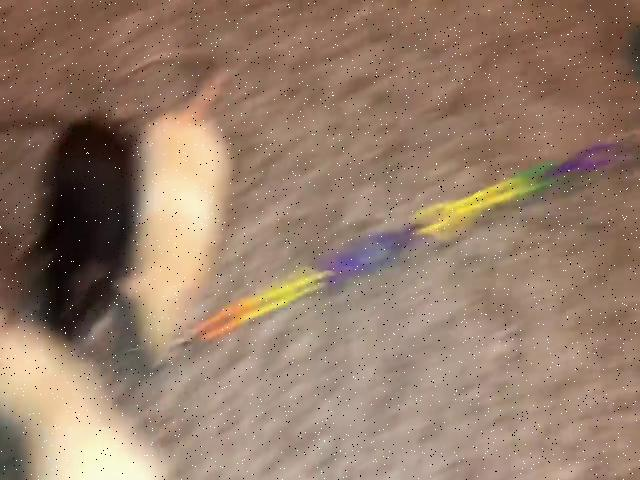Tikus: (128, 45, 234, 365), (0, 111, 124, 330)
